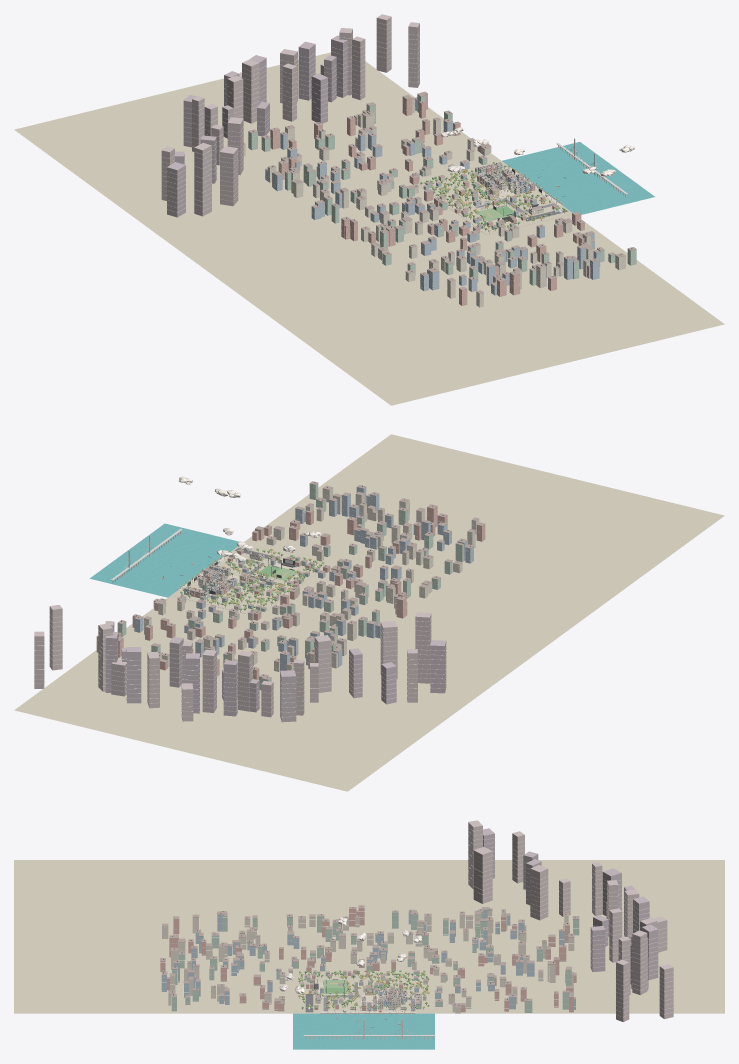
The model's file is world.glb.
3 renders of one model, top to bottom at view 1: azimuth 30°, elevation 25°; view 2: azimuth 150°, elevation 25°; view 3: azimuth 270°, elevation 25°, orthographic. The views are drawn at different scales.
Parts seen in each view (by area): view 1: ground_far_ground, skyline_skyline, skyline_skyline_b, city_ring_bld_cream, city_ring_roof, sea, city_ring_bld_blue, city_ring_bld_salmon, city_ring_bld_mint, skyline_trim, ground, trees_leaf_b; view 2: ground_far_ground, skyline_skyline, skyline_skyline_b, sea, city_ring_roof, city_ring_bld_cream, city_ring_bld_blue, city_ring_bld_salmon, city_ring_bld_mint, skyline_trim, ground, trees_leaf_b; view 3: ground_far_ground, skyline_skyline, city_ring_roof, sea, city_ring_bld_cream, skyline_skyline_b, city_ring_bld_blue, city_ring_bld_mint, city_ring_bld_salmon, ground, skyline_trim, city_ring_trim (+3 smaller).
Part boxes in pixels (<box>): ground_far_ground: <box>14,52,724,405</box>; skyline_skyline: <box>161,14,419,216</box>; skyline_skyline_b: <box>167,35,347,217</box>; city_ring_bld_cream: <box>243,99,625,307</box>; city_ring_roof: <box>243,91,636,293</box>; sea: <box>502,142,654,214</box>; city_ring_bld_blue: <box>265,99,600,295</box>; city_ring_bld_salmon: <box>270,94,590,305</box>; city_ring_bld_mint: <box>248,94,636,285</box>; skyline_trim: <box>161,21,419,212</box>; ground: <box>417,166,569,234</box>; trees_leaf_b: <box>420,162,565,229</box>; ground_far_ground: <box>14,434,724,791</box>; skyline_skyline: <box>34,605,431,721</box>; skyline_skyline_b: <box>105,632,446,722</box>; sea: <box>90,523,238,597</box>; city_ring_roof: <box>97,481,484,679</box>; city_ring_bld_cream: <box>144,488,479,671</box>; city_ring_bld_blue: <box>134,487,473,670</box>; city_ring_bld_salmon: <box>96,496,485,679</box>; city_ring_bld_mint: <box>117,483,463,690</box>; skyline_trim: <box>34,614,446,717</box>; ground: <box>175,547,324,614</box>; trees_leaf_b: <box>181,547,323,610</box>; ground_far_ground: <box>14,860,724,1013</box>; skyline_skyline: <box>468,820,673,1021</box>; city_ring_roof: <box>160,905,579,1007</box>; sea: <box>293,1013,434,1049</box>; city_ring_bld_cream: <box>162,911,574,1013</box>; skyline_skyline_b: <box>483,828,658,990</box>; city_ring_bld_blue: <box>161,909,575,1009</box>; city_ring_bld_mint: <box>171,911,579,1012</box>; city_ring_bld_salmon: <box>160,908,576,1012</box>; ground: <box>298,973,429,1011</box>; skyline_trim: <box>468,826,673,1017</box>; city_ring_trim: <box>160,911,578,1012</box>.
Bounding box in the file's own units: 820 × 126 × 1300.
